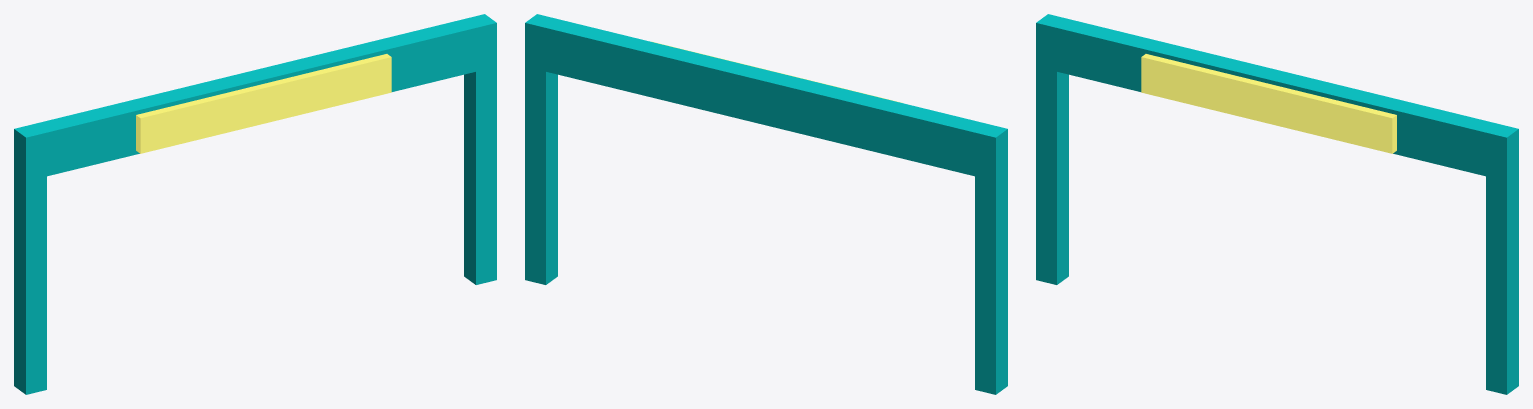
File: depot.glb
3 renders of one model, left to right at view 1: azimuth 30°, elevation 25°; view 2: azimuth 150°, elevation 25°; view 3: azimuth 330°, elevation 25°, orthographic.
Bounding box in the file's own units: 9 × 4.7 × 0.55.
